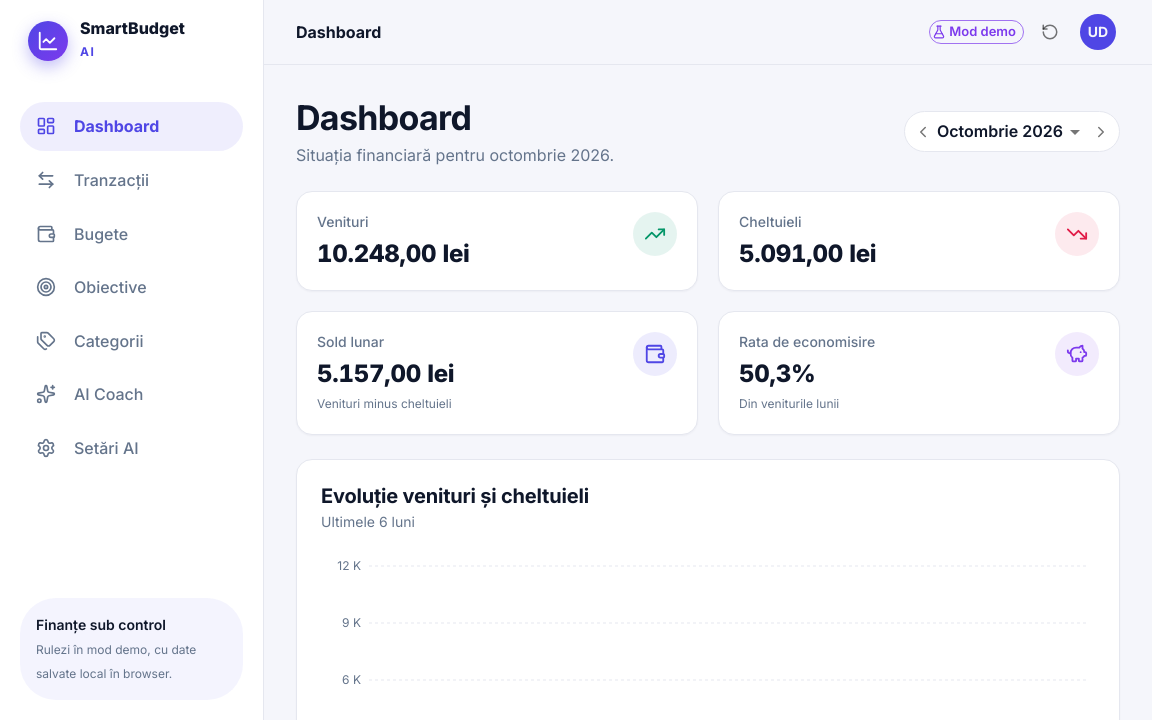
Test: Dashboard › permite selectarea unui an întreg
Check: the text "Sold lunar" is shown, box [317, 333, 384, 350]
Click the dropdown named "Selectează perioada". click: point(1000, 132)
box: [937, 122, 1063, 142]
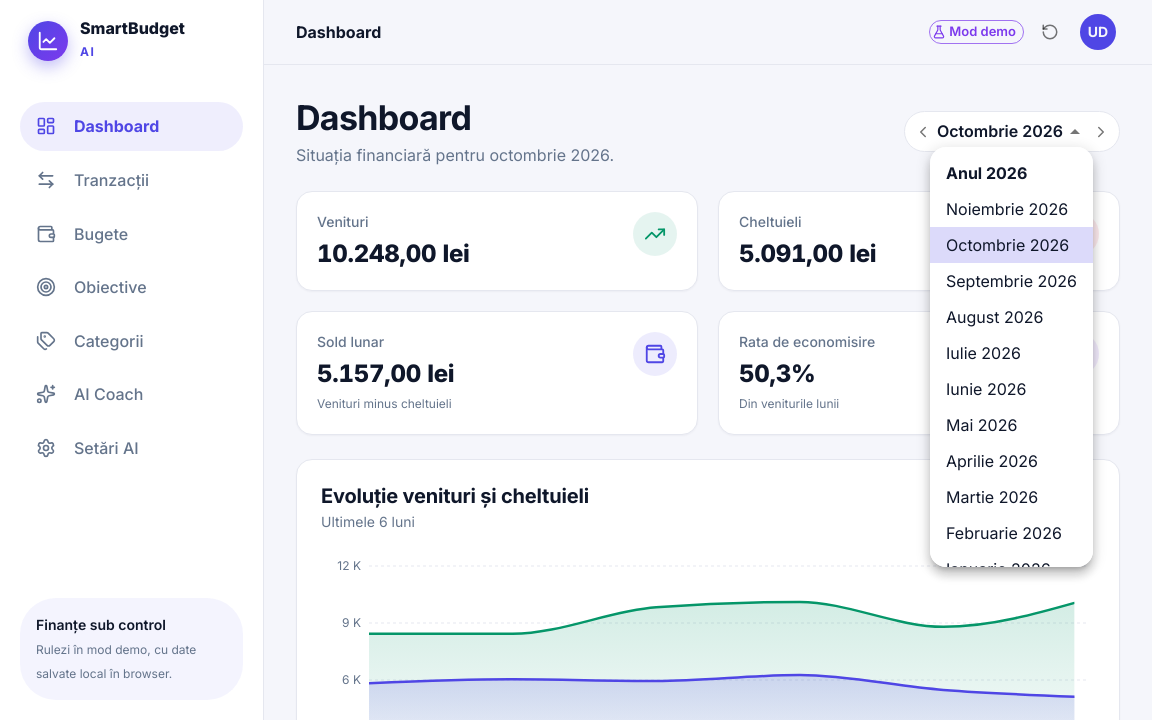
Check: the option "Anul 2026" is shown
Click the option "Anul 2026". click: point(987, 173)
box: [946, 163, 1027, 183]
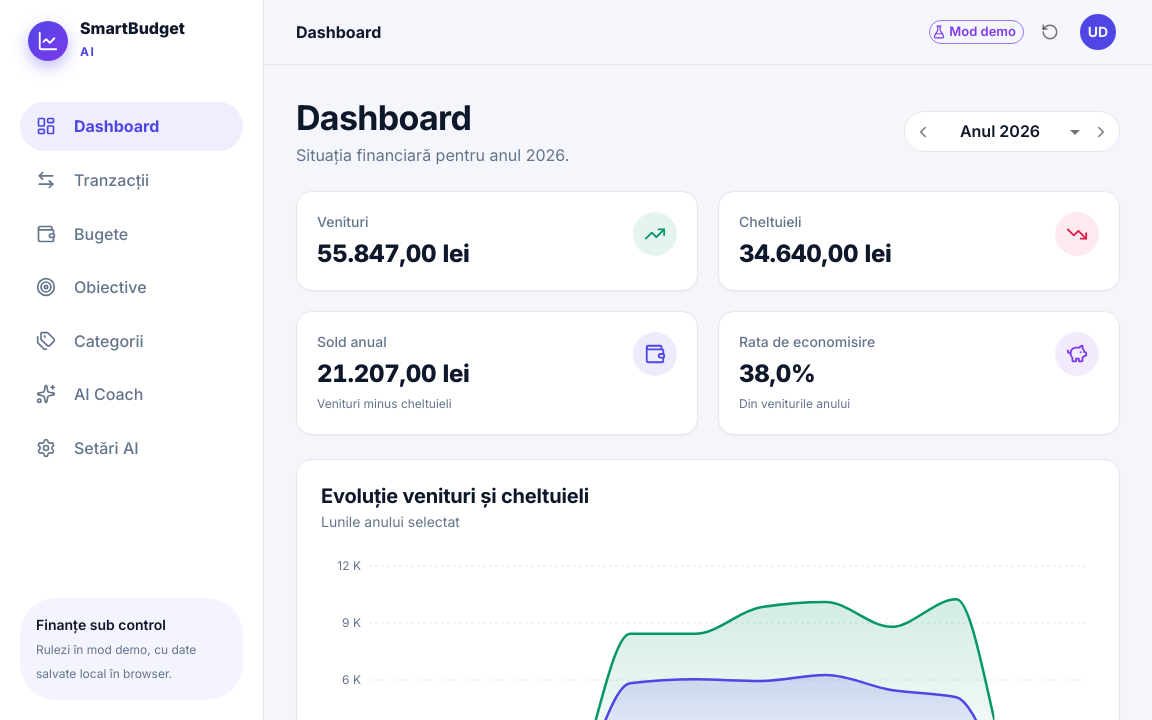
Check: the button named "Anul anterior" is shown, box [909, 118, 937, 146]
Check: the text "Sold anual" is shown, box [317, 333, 387, 350]
